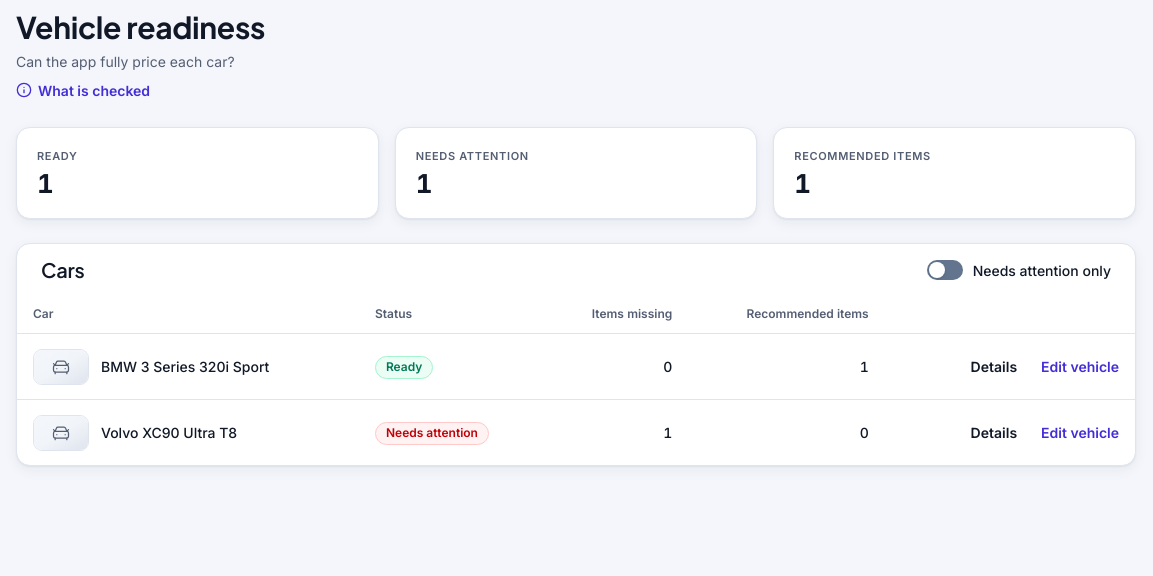
VehicleReadinessPage › expands a car to show every check, its status and the real detail
Expected: the text "Volvo XC90 Ultra T8" is shown, [101,422,237,443]
Expected: the text "No active interest rate configured for brand 'Volvo'." is not shown
Click the button with aria-label "Show details for Volvo XC90 Ultra T8". click: click(994, 433)
box: [955,414,1033,451]
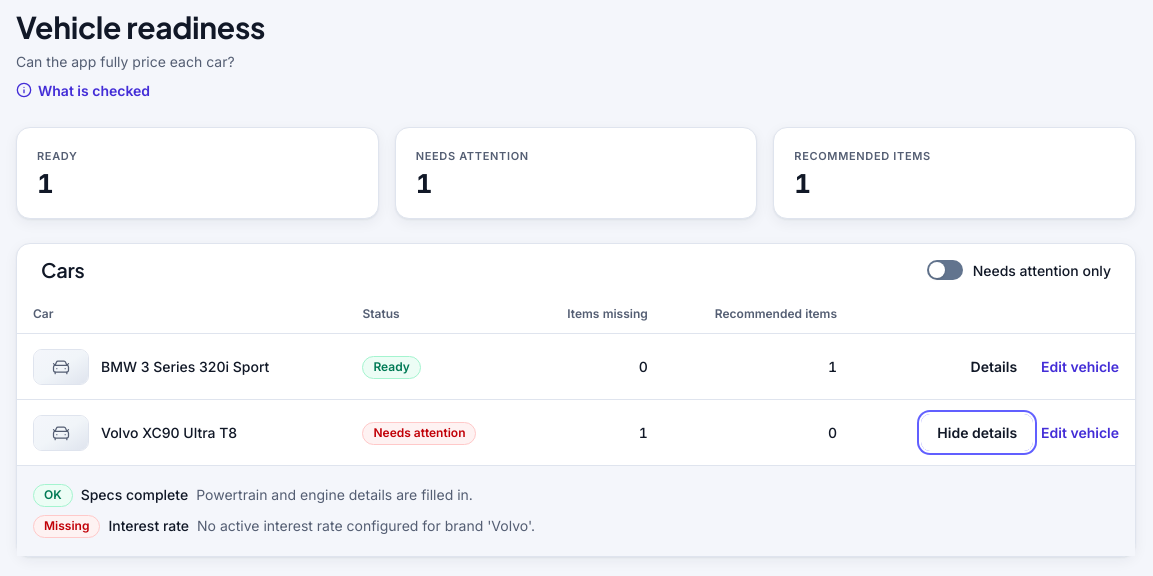
Now the text "No active interest rate configured for brand 'Volvo'." is shown, box [197,515,535,536]
Now the text "Missing" is shown, box [33,515,100,538]
Now the text "OK" is shown, box [33,484,73,507]
Click the button with aria-label "Hide details for Volvo XC90 Ultra T8". click: click(977, 433)
box: [921,414,1033,451]
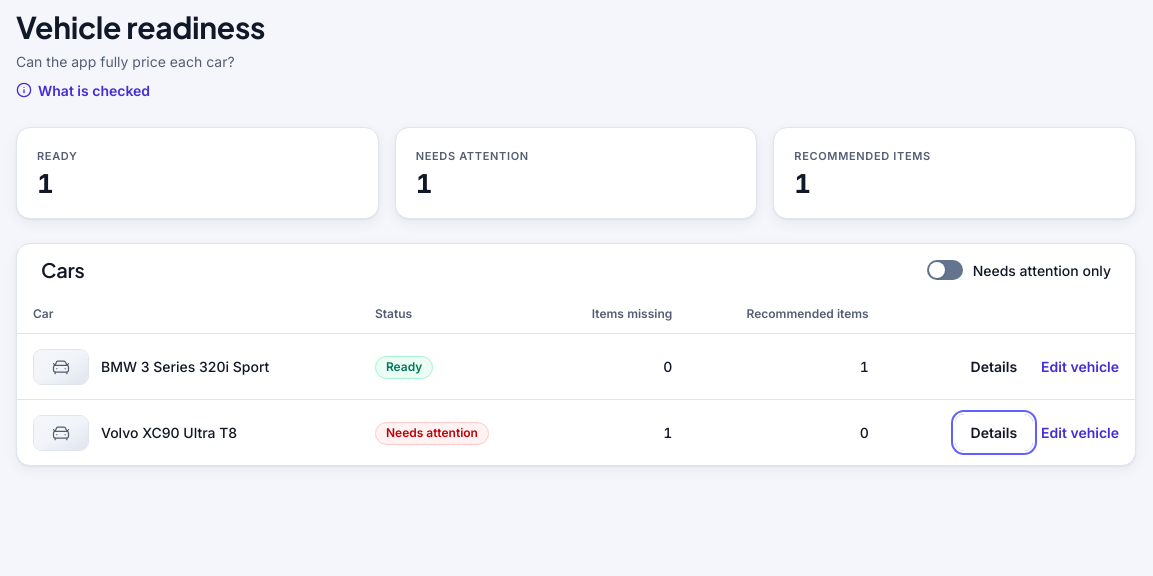
Now the text "No active interest rate configured for brand 'Volvo'." is gone
